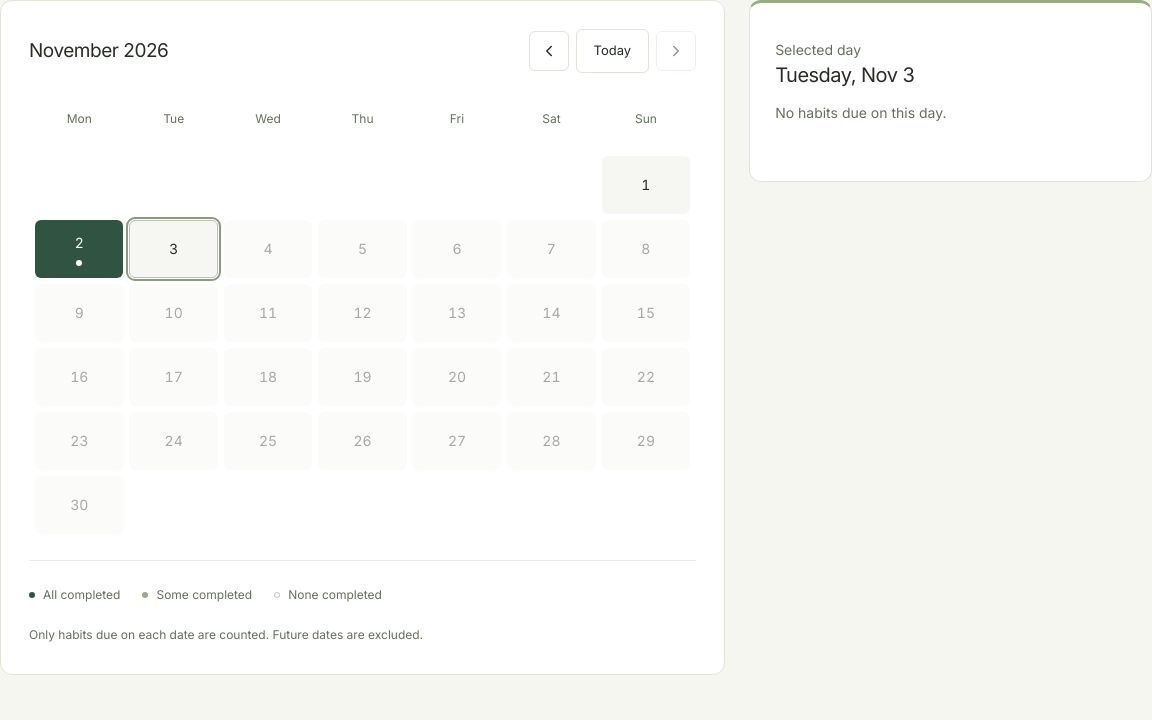
it: calendar month and history interactions › selects actual local dates and counts only scheduled habits created by that date
Click the button "2".
click(79, 249)  # box [35,220,123,278]
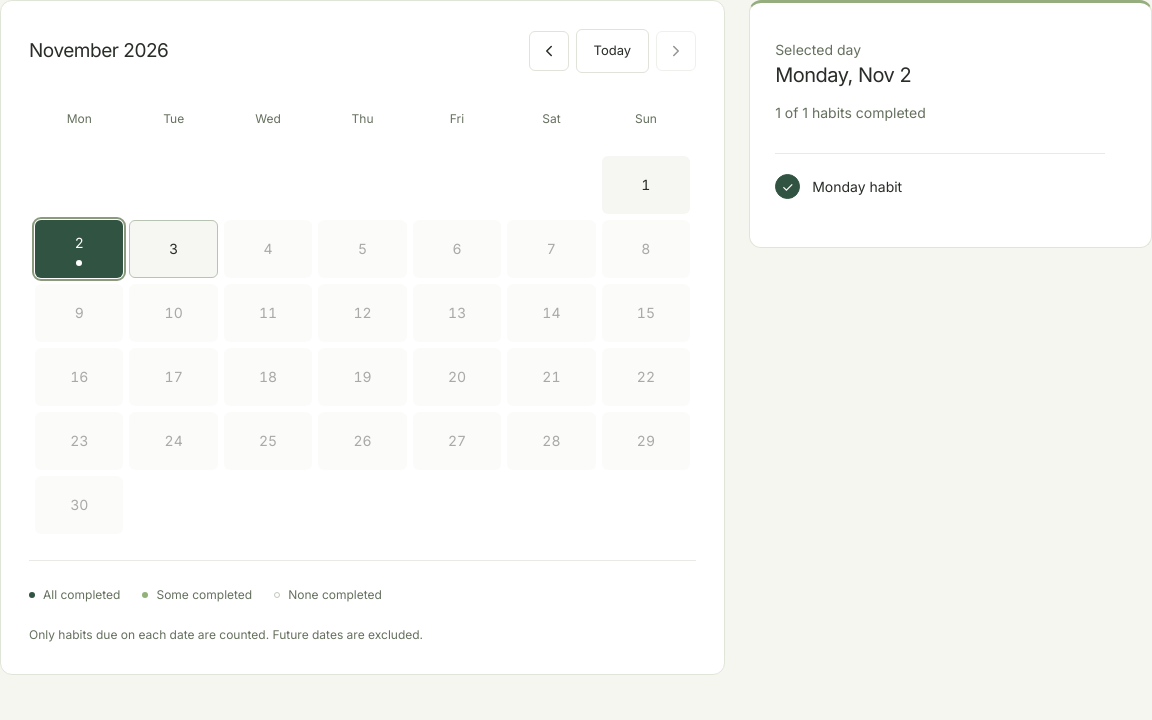
Expected: the button "4" is disabled, [224,220,312,278]
Result: the element with class "calendar-details" shows "Monday habit" at [812,178,902,195]
